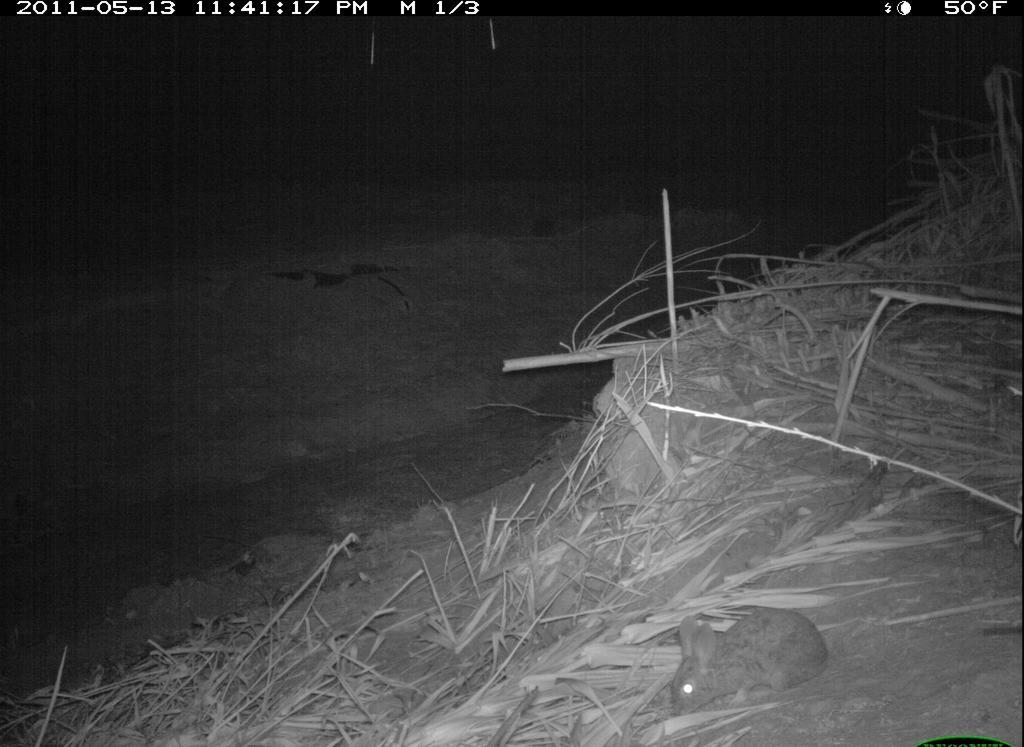rabbit: (665, 603, 844, 720)
